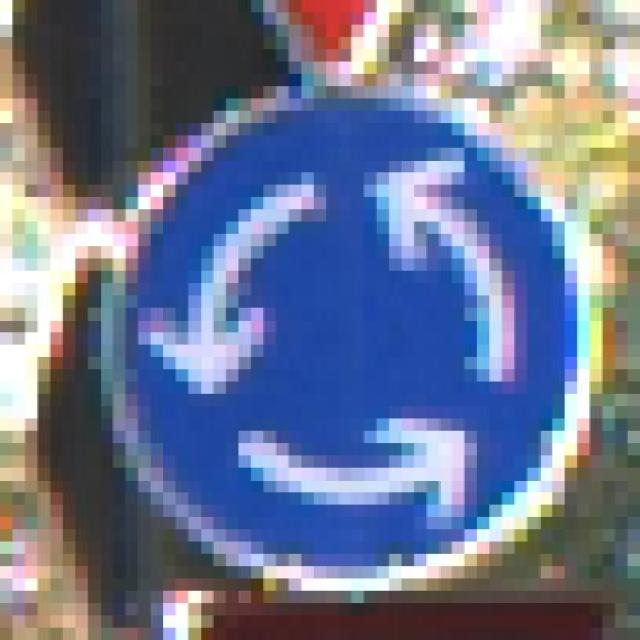Round-About: (62, 86, 615, 603)
